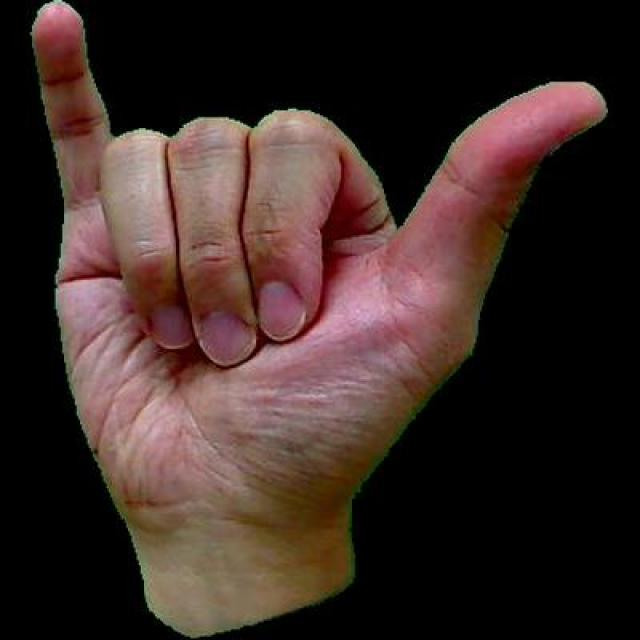y: (22, 0, 613, 637)
